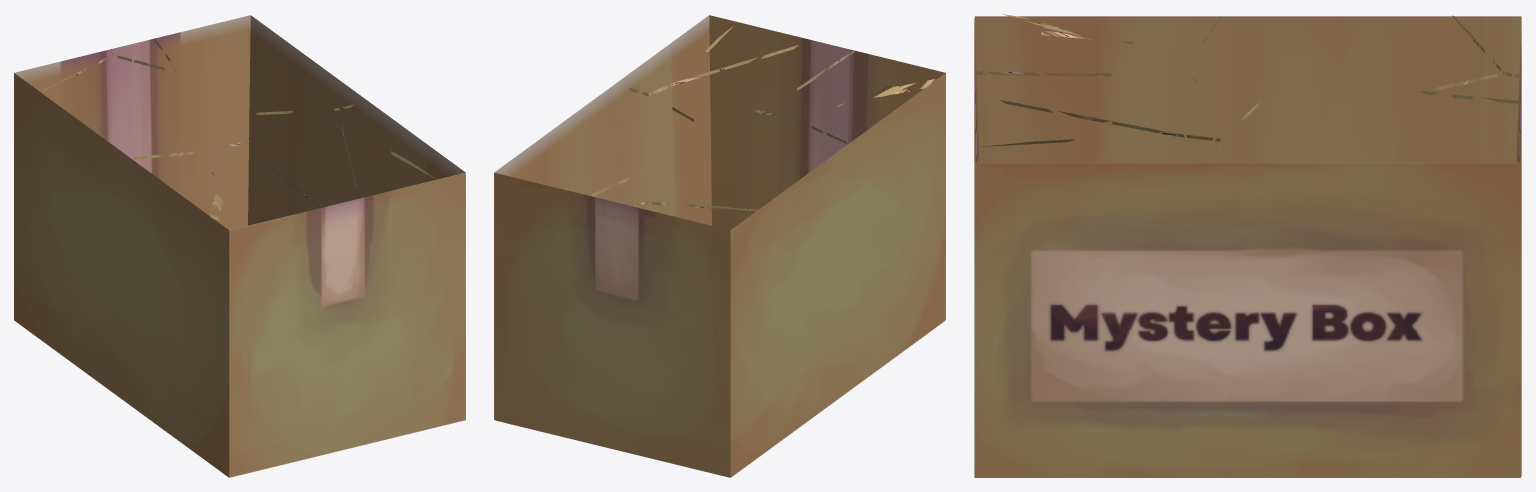
File: ClosedBox.fbx
The picture shows the model from 3 angles, left to right: view 1: azimuth 30°, elevation 25°; view 2: azimuth 150°, elevation 25°; view 3: azimuth 270°, elevation 25°; orthographic projection. The views are drawn at different scales.
Visible parts, largest first — view 1: Box.002, Box_cell.014, Box_cell.015, Box_cell.010, Box_cell.016, Box_cell.001, Box_cell.017, Box_cell.011, Box_cell.013; view 2: Box.002, Box_cell.013, Box_cell.015, Box_cell.012, Box_cell.017, Box_cell.001, Box_cell.010, Box_cell.014, Box_cell.016, Box_cell.011; view 3: Box.002, Box_cell.016, Box_cell.012, Box_cell.015, Box_cell.010, Box_cell.011, Box_cell.001, Box_cell.013, Box_cell.014, Box_cell.017.
Part boxes in pixels (box(x1,y1,x2,y2)): Box.002: box(14, 15, 465, 477); Box_cell.014: box(147, 171, 427, 326); Box_cell.015: box(14, 45, 146, 195); Box_cell.010: box(14, 183, 150, 379); Box_cell.016: box(127, 16, 367, 190); Box_cell.001: box(148, 214, 363, 477); Box_cell.017: box(364, 99, 465, 238); Box_cell.011: box(363, 179, 465, 334); Box_cell.013: box(138, 120, 362, 225); Box.002: box(494, 15, 945, 477); Box_cell.013: box(494, 187, 626, 452); Box_cell.015: box(614, 134, 863, 339); Box_cell.012: box(611, 140, 808, 230); Box_cell.017: box(608, 16, 709, 159); Box_cell.001: box(809, 164, 945, 383); Box_cell.010: box(619, 329, 778, 477); Box_cell.014: box(746, 30, 945, 169); Box_cell.016: box(494, 127, 615, 312); Box_cell.011: box(614, 92, 775, 181); Box.002: box(974, 16, 1521, 477); Box_cell.016: box(1219, 89, 1521, 292); Box_cell.012: box(974, 287, 1236, 477); Box_cell.015: box(1183, 16, 1521, 162); Box_cell.010: box(1173, 50, 1516, 162); Box_cell.011: box(974, 233, 1226, 369); Box_cell.001: box(978, 68, 1182, 162); Box_cell.013: box(1230, 285, 1521, 477); Box_cell.014: box(975, 16, 1183, 125); Box_cell.017: box(977, 163, 1228, 257).
Size of the model in its own units: 200 by 201 by 315.
